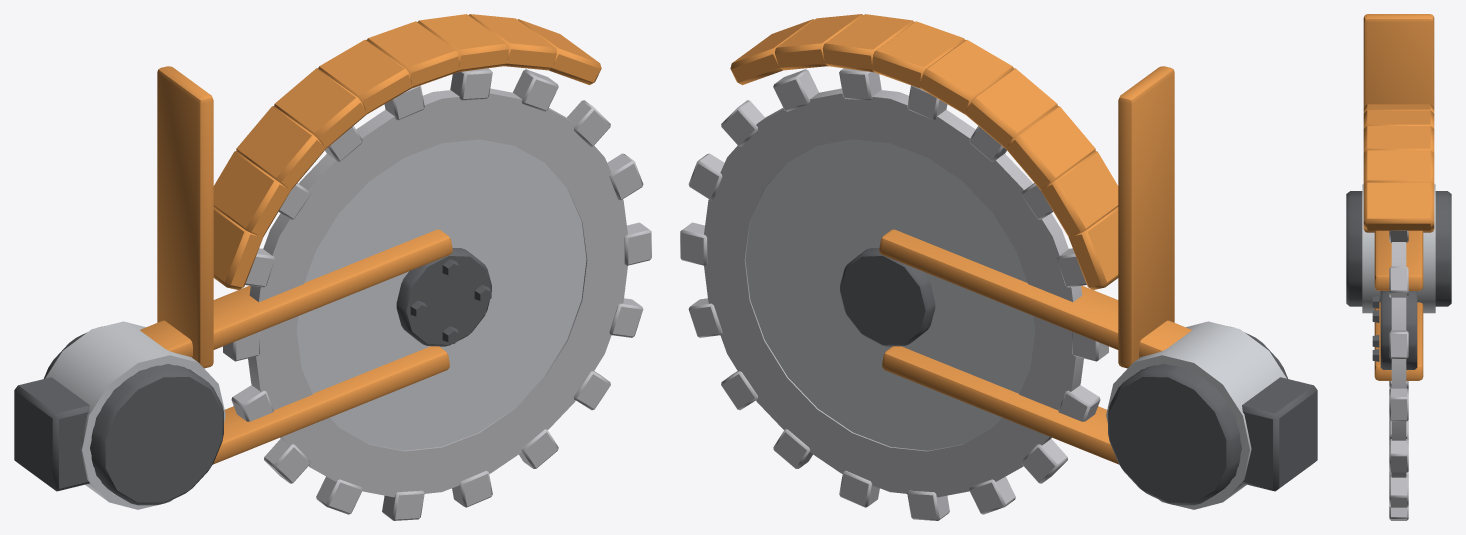
Rendered from saw.glb.
3 views of the same model, side by side, from view 1: azimuth 30°, elevation 25°; view 2: azimuth 150°, elevation 25°; view 3: azimuth 270°, elevation 25° (orthographic). The views are drawn at different scales.
Visible parts, largest first — view 1: body; view 2: body; view 3: body.
Boxes of the visible parts, box(x1,y1,x2,y2) form: body: box(14, 14, 651, 520); body: box(680, 14, 1317, 520); body: box(1346, 14, 1451, 520).
Size of the model in its own units: 0.46 by 0.3513 by 0.086.
